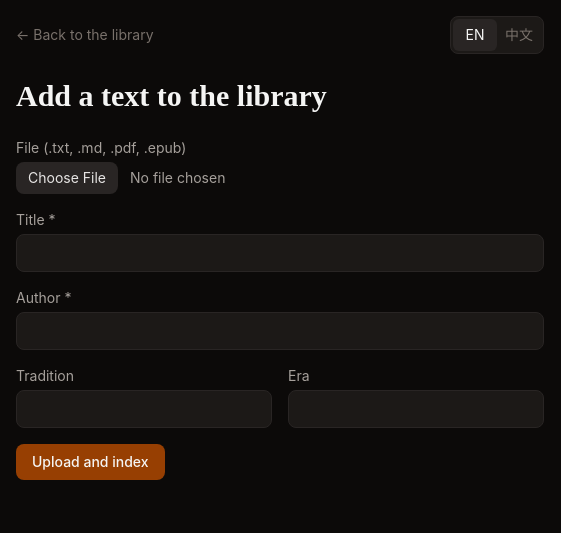
UploadPage › requires a file, title, and author before submitting
Click the button "Upload and index" at coordinates (90, 462), box x1=16 y1=444 x2=165 y2=480
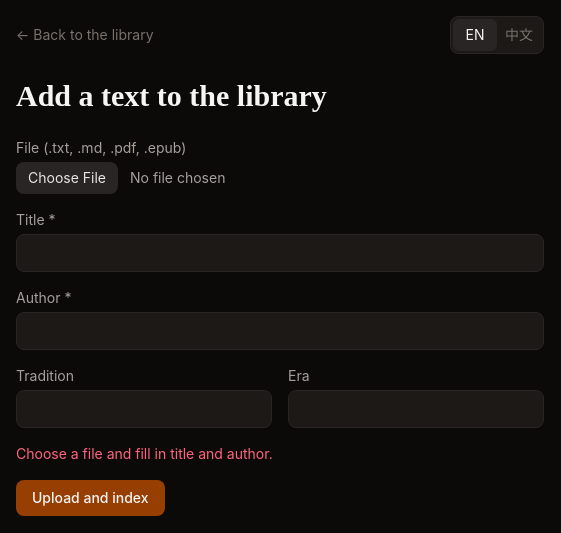
Expected: the text "Choose a file and fill in title and author." is shown, x1=16 y1=445 x2=273 y2=462
